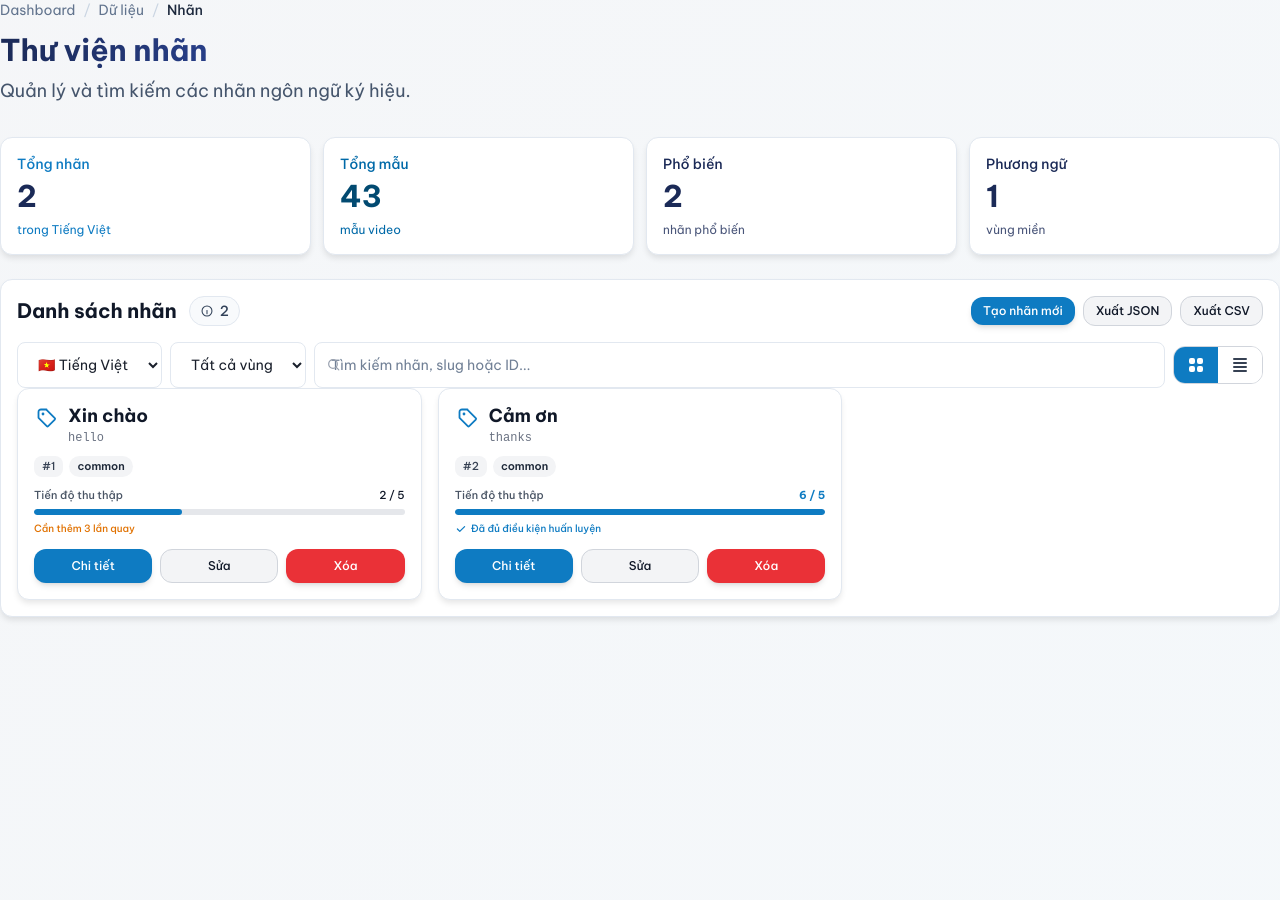
Test: LabelsPage - Comprehensive Automation Tests (Edge Cases & Errors) › Tạo nhãn mới (Form Validation & API Errors) › Tạo nhãn thành công (Happy Path)
Expected: the heading "Xin chào" is shown, [68,404,148,427]
Click the button "Tạo nhãn mới": x=1023, y=311 [971,297,1075,325]
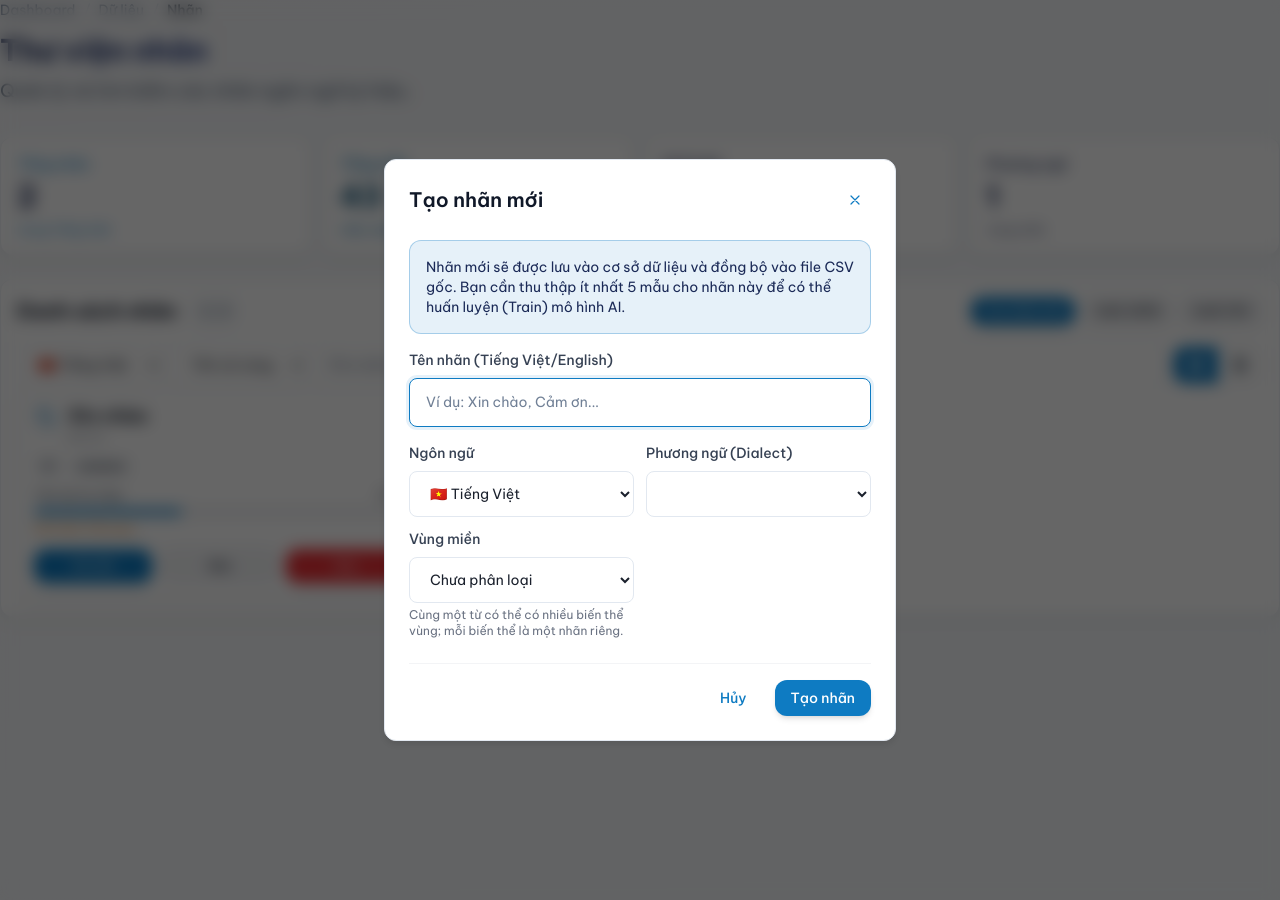
In the field with placeholder "Ví dụ: Xin chào, Cảm ơn...": x=640, y=402 [409,378,871,427], type "Tạm biệt"
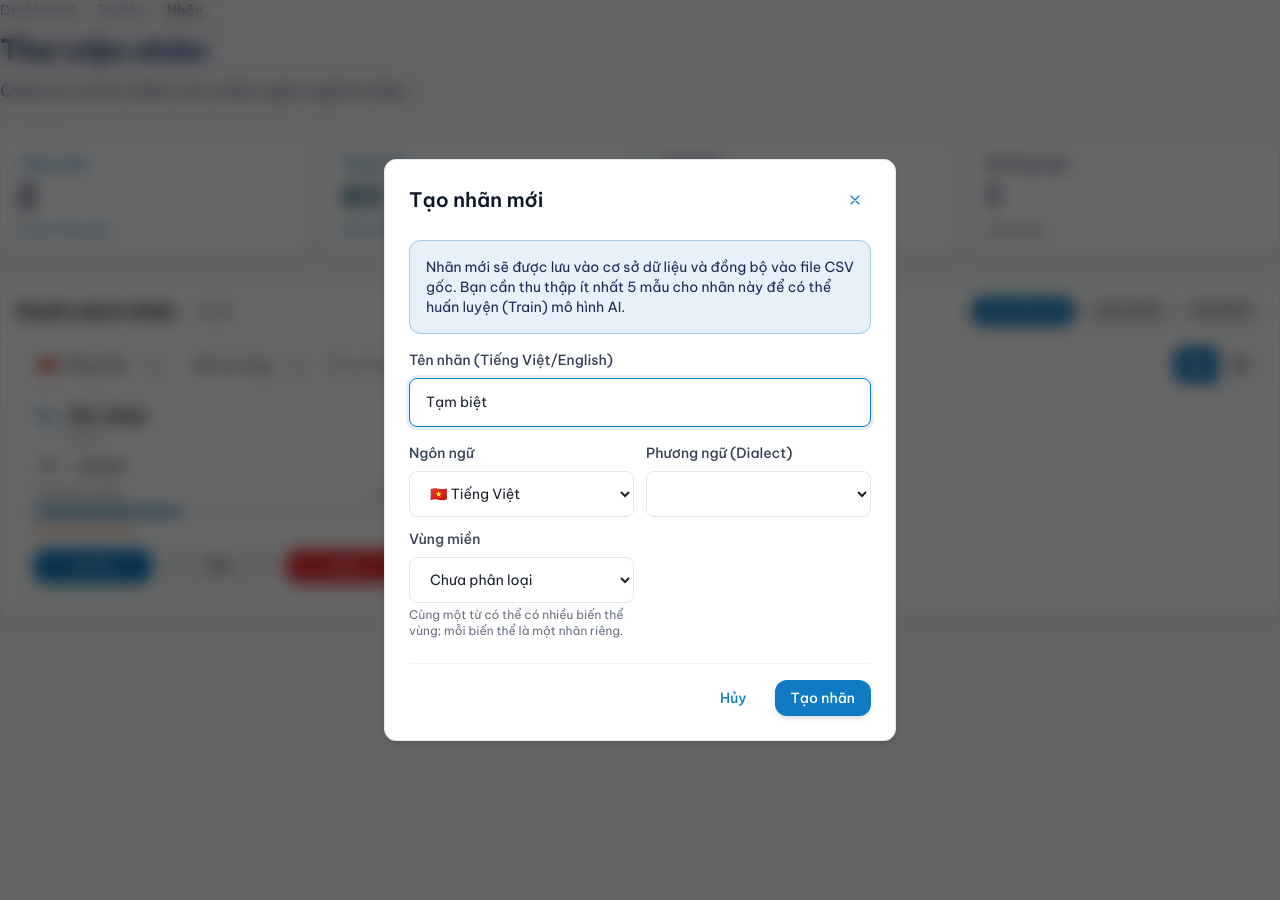
Click the button "Tạo nhãn": x=823, y=698 [774,680,871,716]
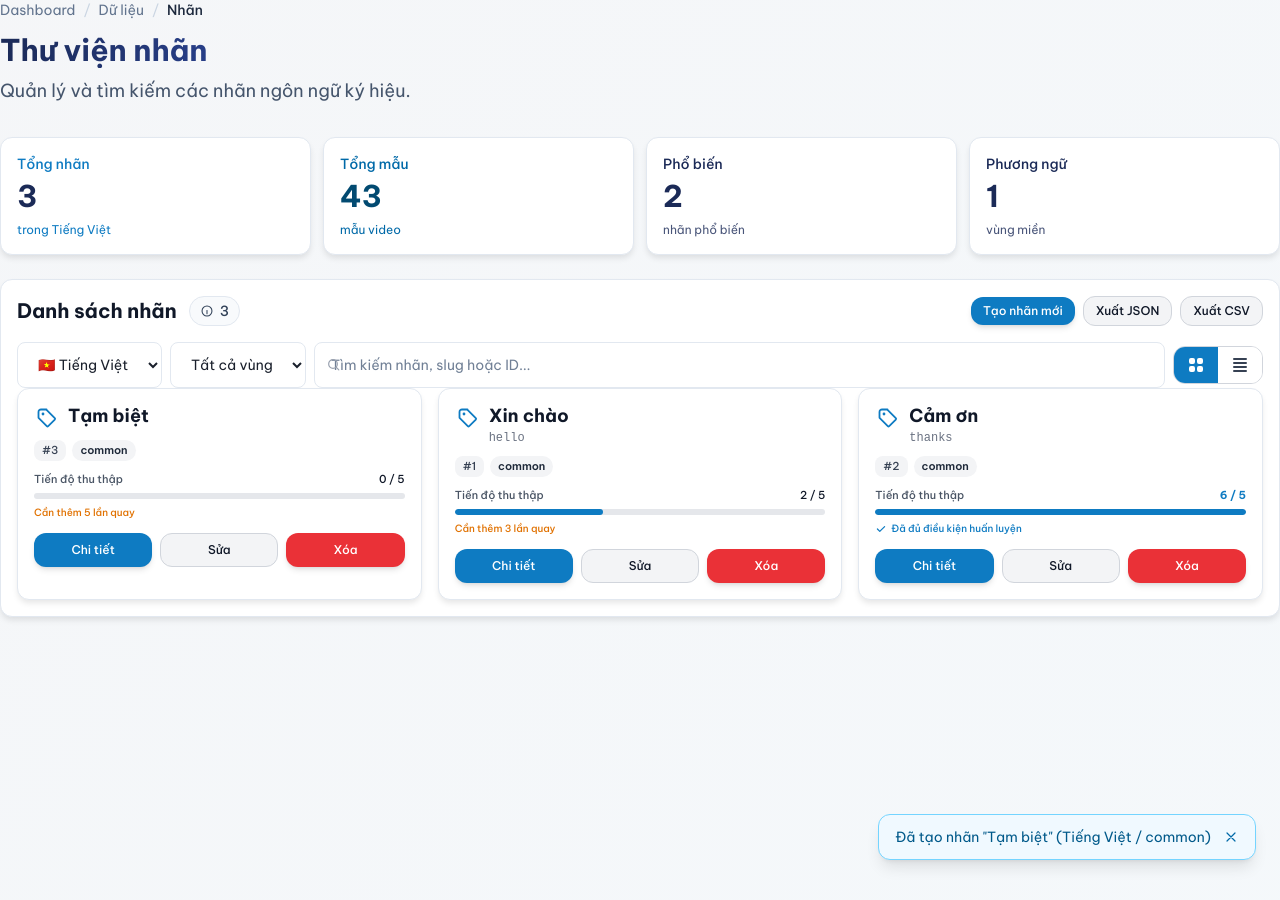
Result: the text "Đã tạo nhãn \"Tạm biệt\" (Tiếng Việt / common)" is shown at [895,827,1211,847]
